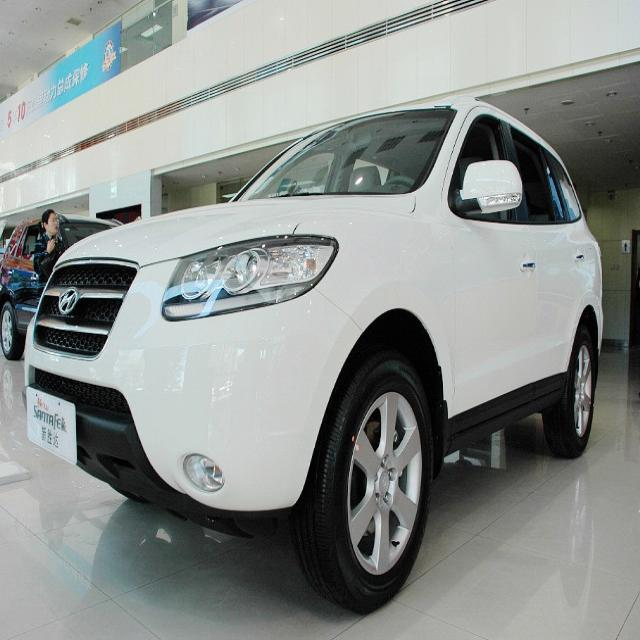front_bumper: (22, 258, 364, 516)
front_glass: (237, 106, 456, 200)
front_left_side_door: (447, 104, 538, 439)
front_left_side_light: (163, 230, 339, 322)
front_left_side_mirror: (459, 159, 524, 222)
wheel: (305, 362, 431, 608), (545, 331, 593, 455)
